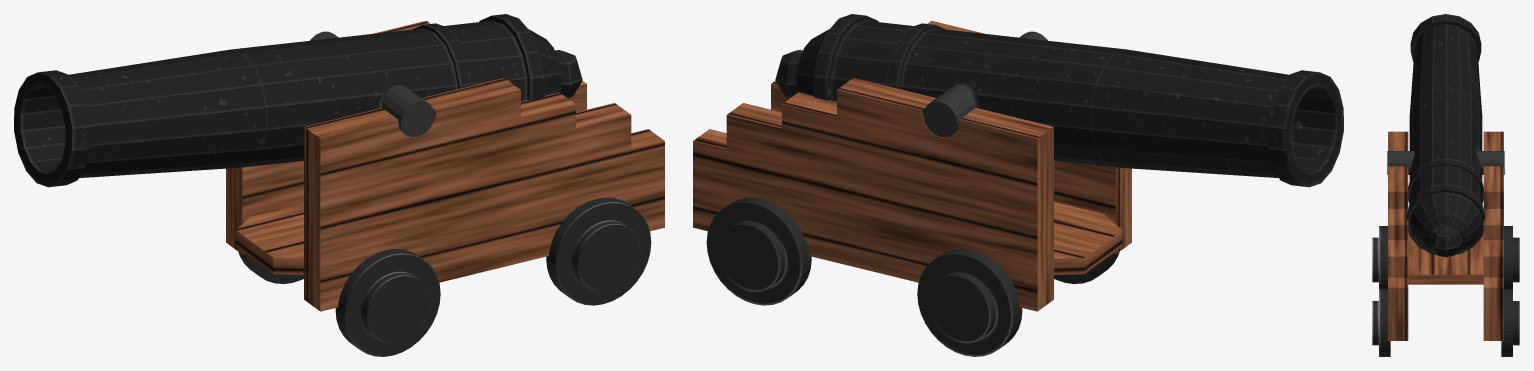
Rendered from cannon.fbx.
3 renders of one model, left to right at view 1: azimuth 30°, elevation 25°; view 2: azimuth 150°, elevation 25°; view 3: azimuth 270°, elevation 25°, orthographic. The views are drawn at different scales.
Visible parts, largest first — view 1: Base, Barrel, Wheels; view 2: Base, Barrel, Wheels; view 3: Barrel, Base, Wheels.
Boxes of the visible parts, bbox=[...] form: Base: bbox=[226, 20, 664, 311]; Barrel: bbox=[14, 14, 582, 187]; Wheels: bbox=[238, 197, 651, 356]; Base: bbox=[693, 20, 1131, 311]; Barrel: bbox=[775, 14, 1343, 187]; Wheels: bbox=[706, 197, 1119, 356]; Barrel: bbox=[1387, 14, 1504, 257]; Base: bbox=[1388, 131, 1503, 340]; Wheels: bbox=[1372, 226, 1519, 356].
Size of the model in its own units: 702 by 358 by 252.
